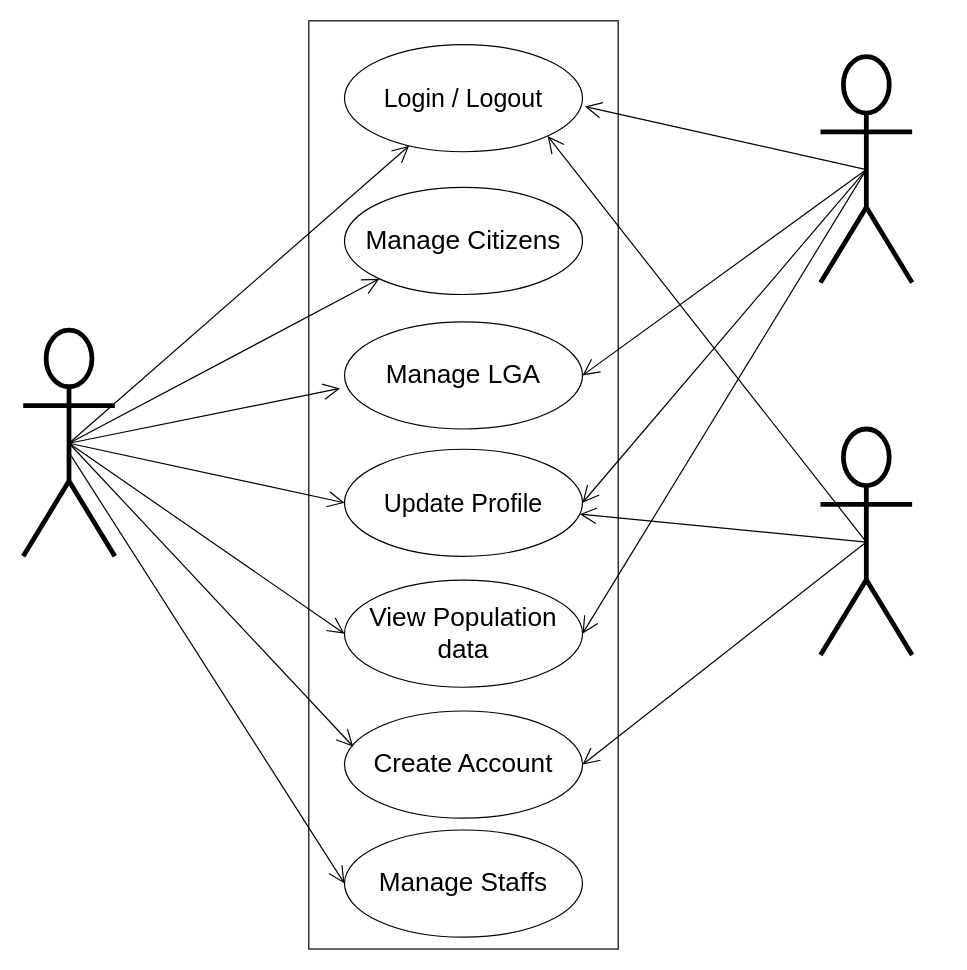
Some shapes in this 967 by 970 pixel diagram are drawn without their labels. Here are the shapes that lost their labels. From the top down, the centre of each, then its label:
point 866,169: User (staff)
point 68,442: Admin
point 866,541: User (citizens)
